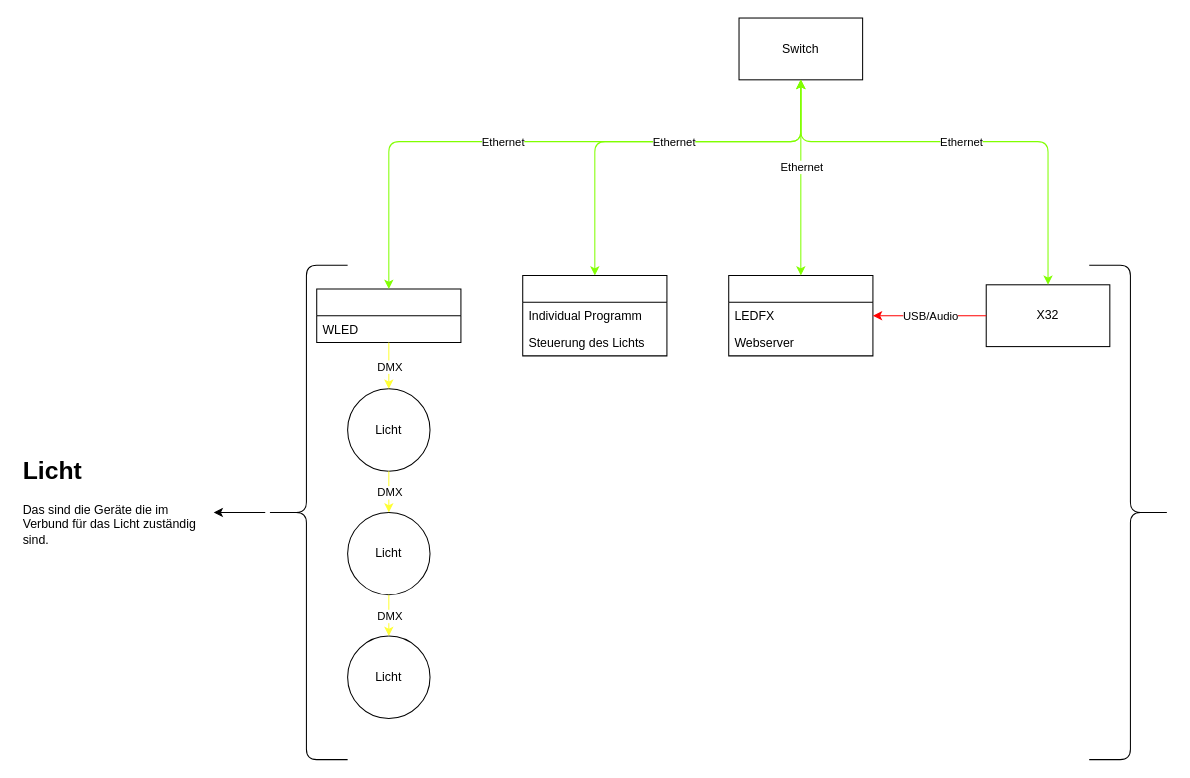
Some shapes in this 1190 by 778 pixel diagram are drawn without their labels. The box of each missing label's shape, as (x1, y1, x2, y2) in pixels:
EPS32 WT32: (316, 288, 461, 342)
ESP32 WT32: (522, 274, 667, 356)
Rasperry Pi: (728, 274, 873, 356)
